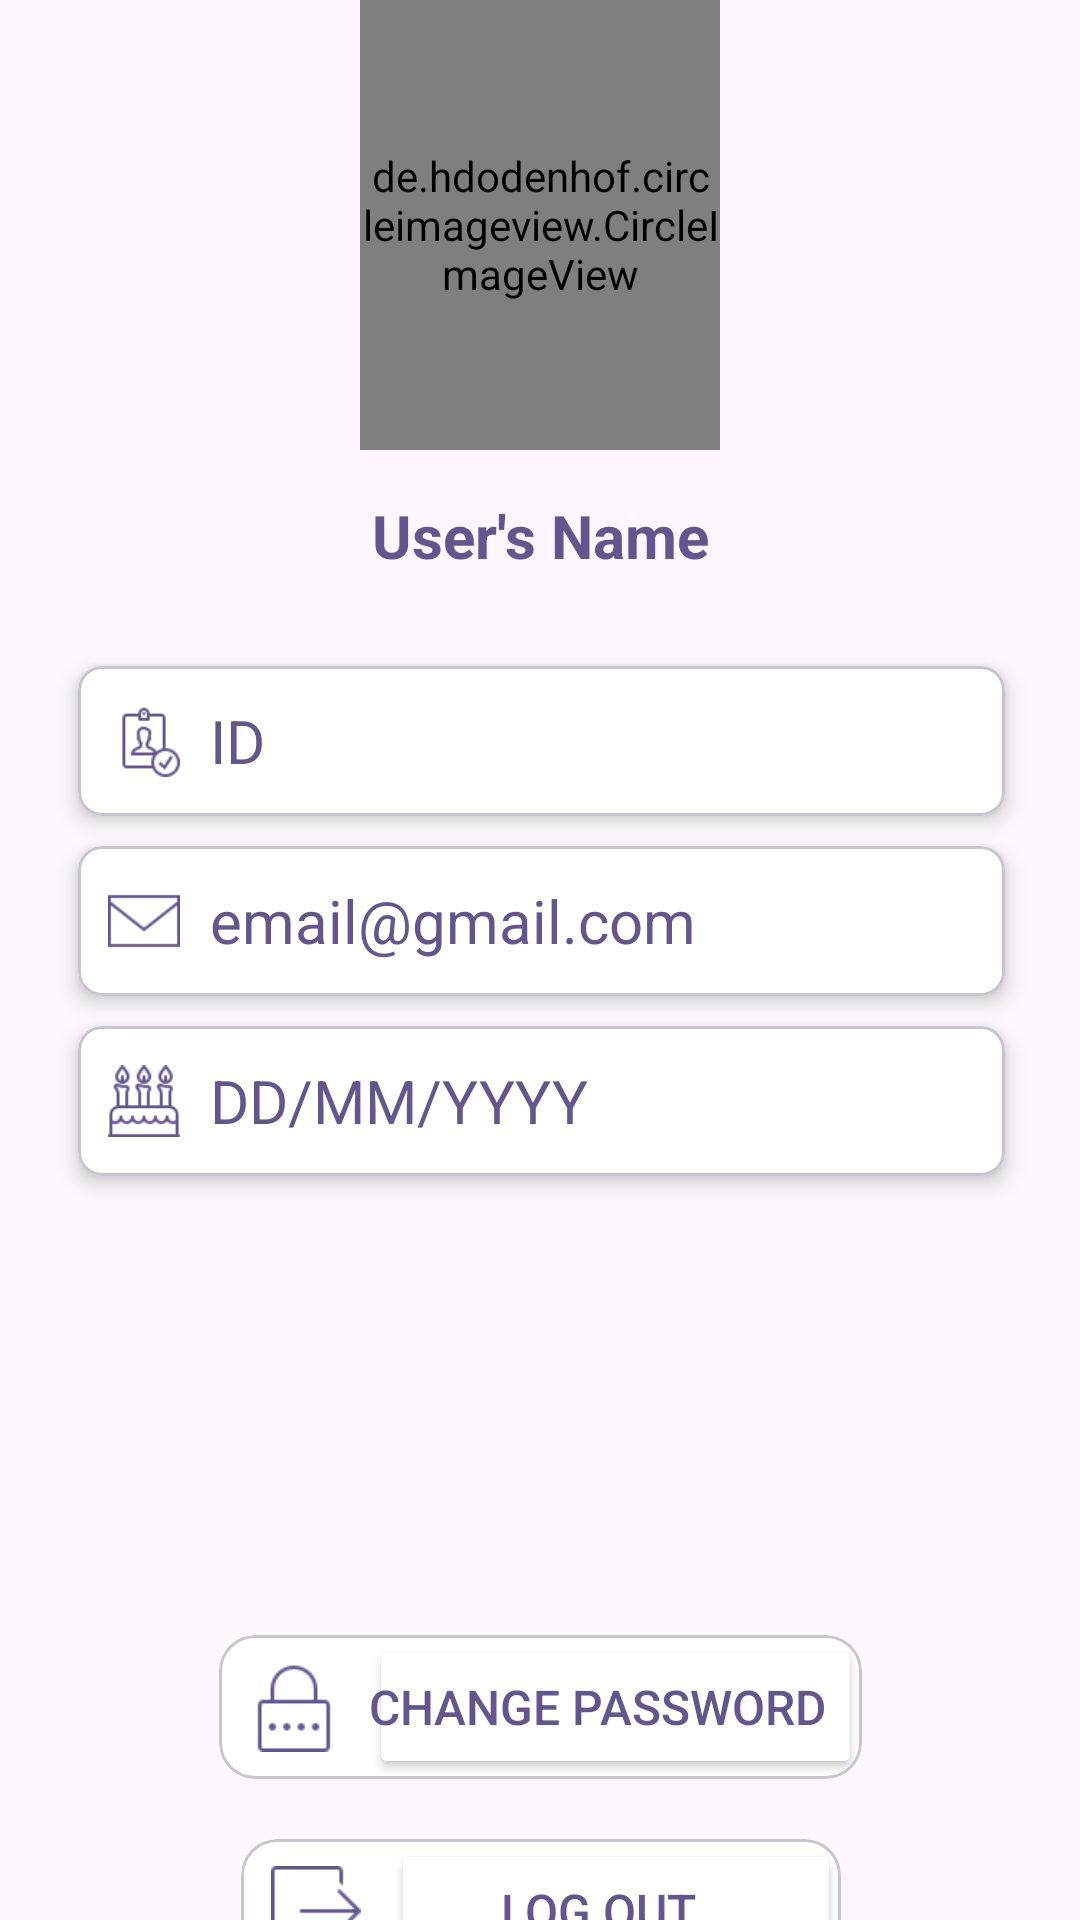

Where icons sit on this 1080×1920 app screen, as box(x1, y1, x2, y2):
Birthday Icon: box(108, 1065, 180, 1137)
